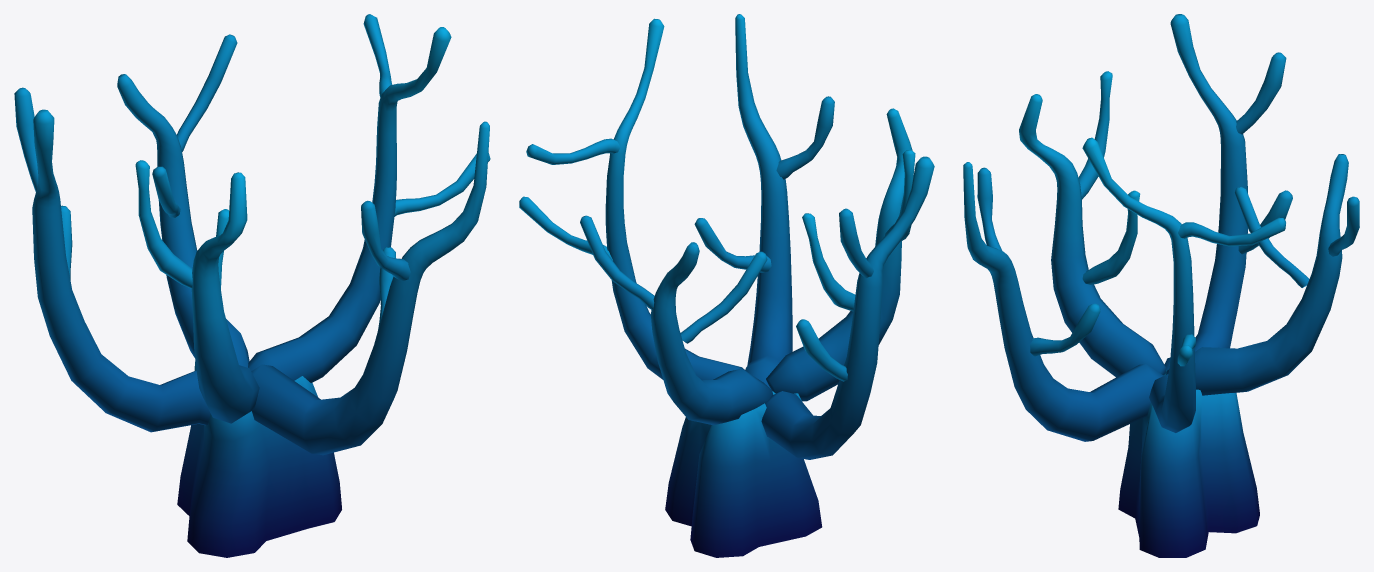
The model's file is Blue_Coral_02.fbx.
The picture shows the model from 3 angles, left to right: view 1: azimuth 30°, elevation 25°; view 2: azimuth 150°, elevation 25°; view 3: azimuth 270°, elevation 25°; orthographic projection. The views are drawn at different scales.
Visible parts, largest first — view 1: Blue_Coral_02; view 2: Blue_Coral_02; view 3: Blue_Coral_02.
Boxes of the visible parts, x1,y1,x2,y2 form: Blue_Coral_02: (14, 14, 490, 557); Blue_Coral_02: (519, 14, 934, 557); Blue_Coral_02: (963, 14, 1359, 557).
Bounding box in the file's own units: 253 × 261 × 210.
